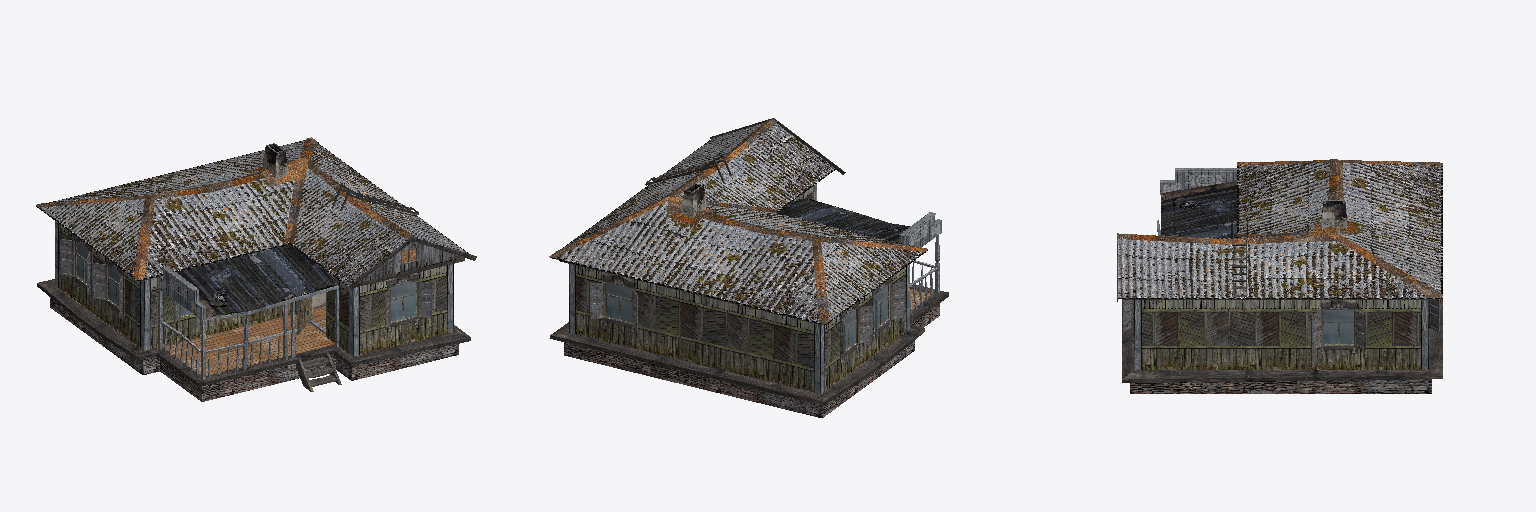
The picture shows the model from 3 angles: view 1: azimuth 30°, elevation 25°; view 2: azimuth 150°, elevation 25°; view 3: azimuth 270°, elevation 25°; orthographic projection.
Parts seen in each view (by area): view 1: House.001_House; view 2: House.001_House; view 3: House.001_House.
Part boxes in pixels (left/top/right/bottom): House.001_House: left=36, top=137, right=476, bottom=401; House.001_House: left=549, top=118, right=948, bottom=417; House.001_House: left=1117, top=159, right=1442, bottom=393.
Bounding box in the file's own units: 8.33 × 4.37 × 8.44.
3 materials, 3 textured.